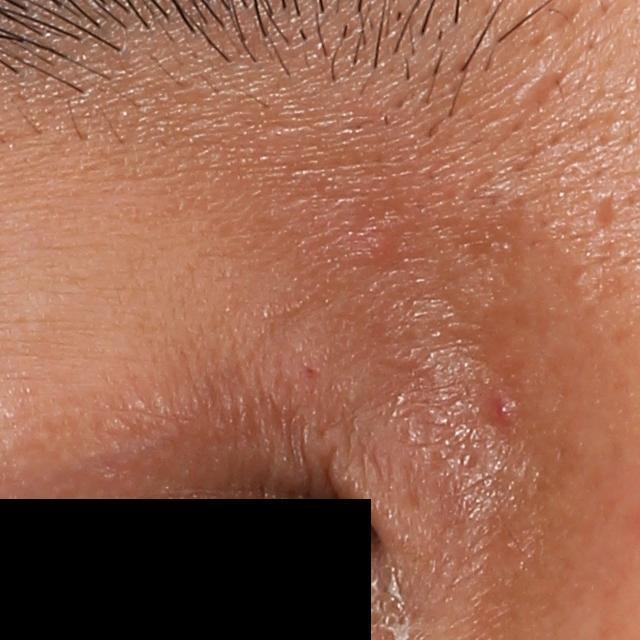atrophic_scar: (502, 56, 577, 136), (594, 191, 620, 231)
